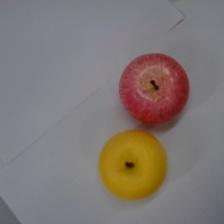red: (120, 53, 190, 124)
yellow: (98, 130, 168, 201)
